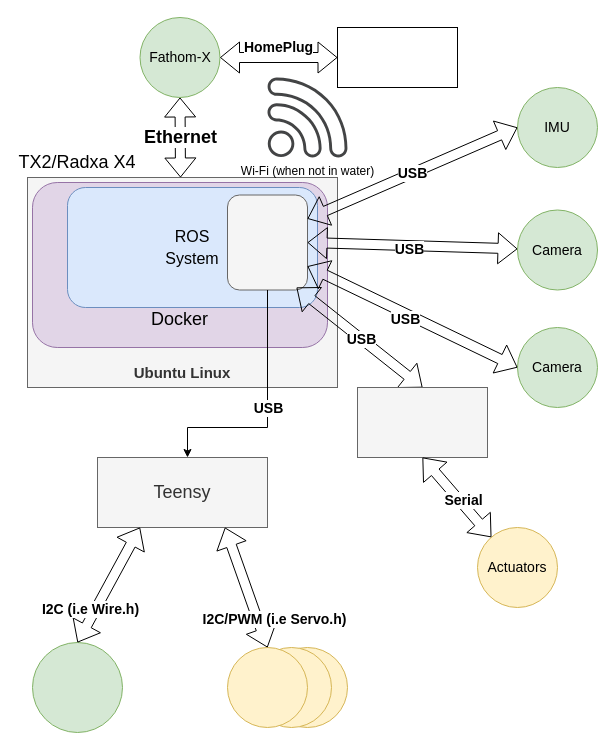
The diagram is 615 pixels wide and 750 high, and some of its shapes have lost their labels. Here are the shapes that lost their labels. From the top down, the centre of each, then its label:
At (x=397, y=57): "Personal Laptop".
At (x=267, y=242): "ROS Drivers".
At (x=422, y=422): "Arduino".
At (x=77, y=687): "Depth Sensor".
At (x=267, y=687): "Thrusters".
